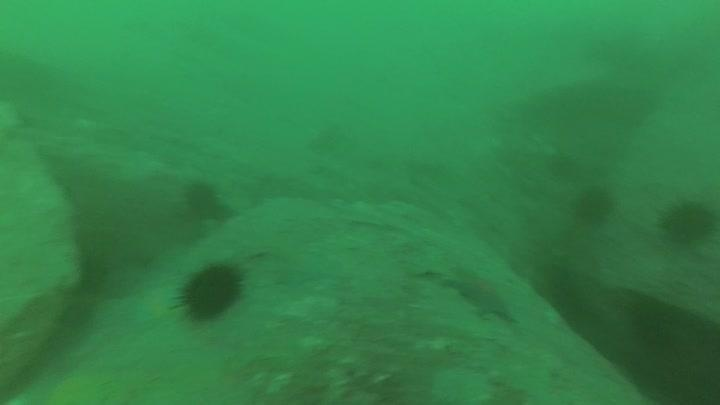echinus: (173, 258, 248, 325), (657, 196, 718, 247), (572, 183, 617, 227), (181, 178, 224, 221)
starfish: (444, 263, 523, 326)
